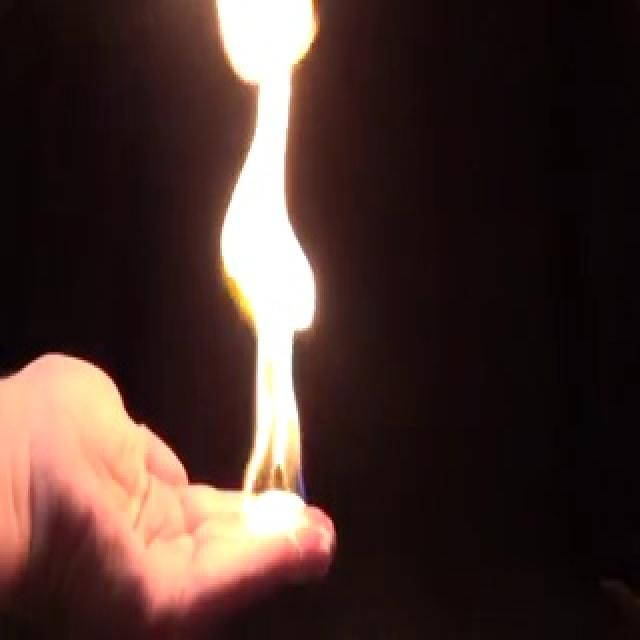fire: (200, 0, 326, 537)
